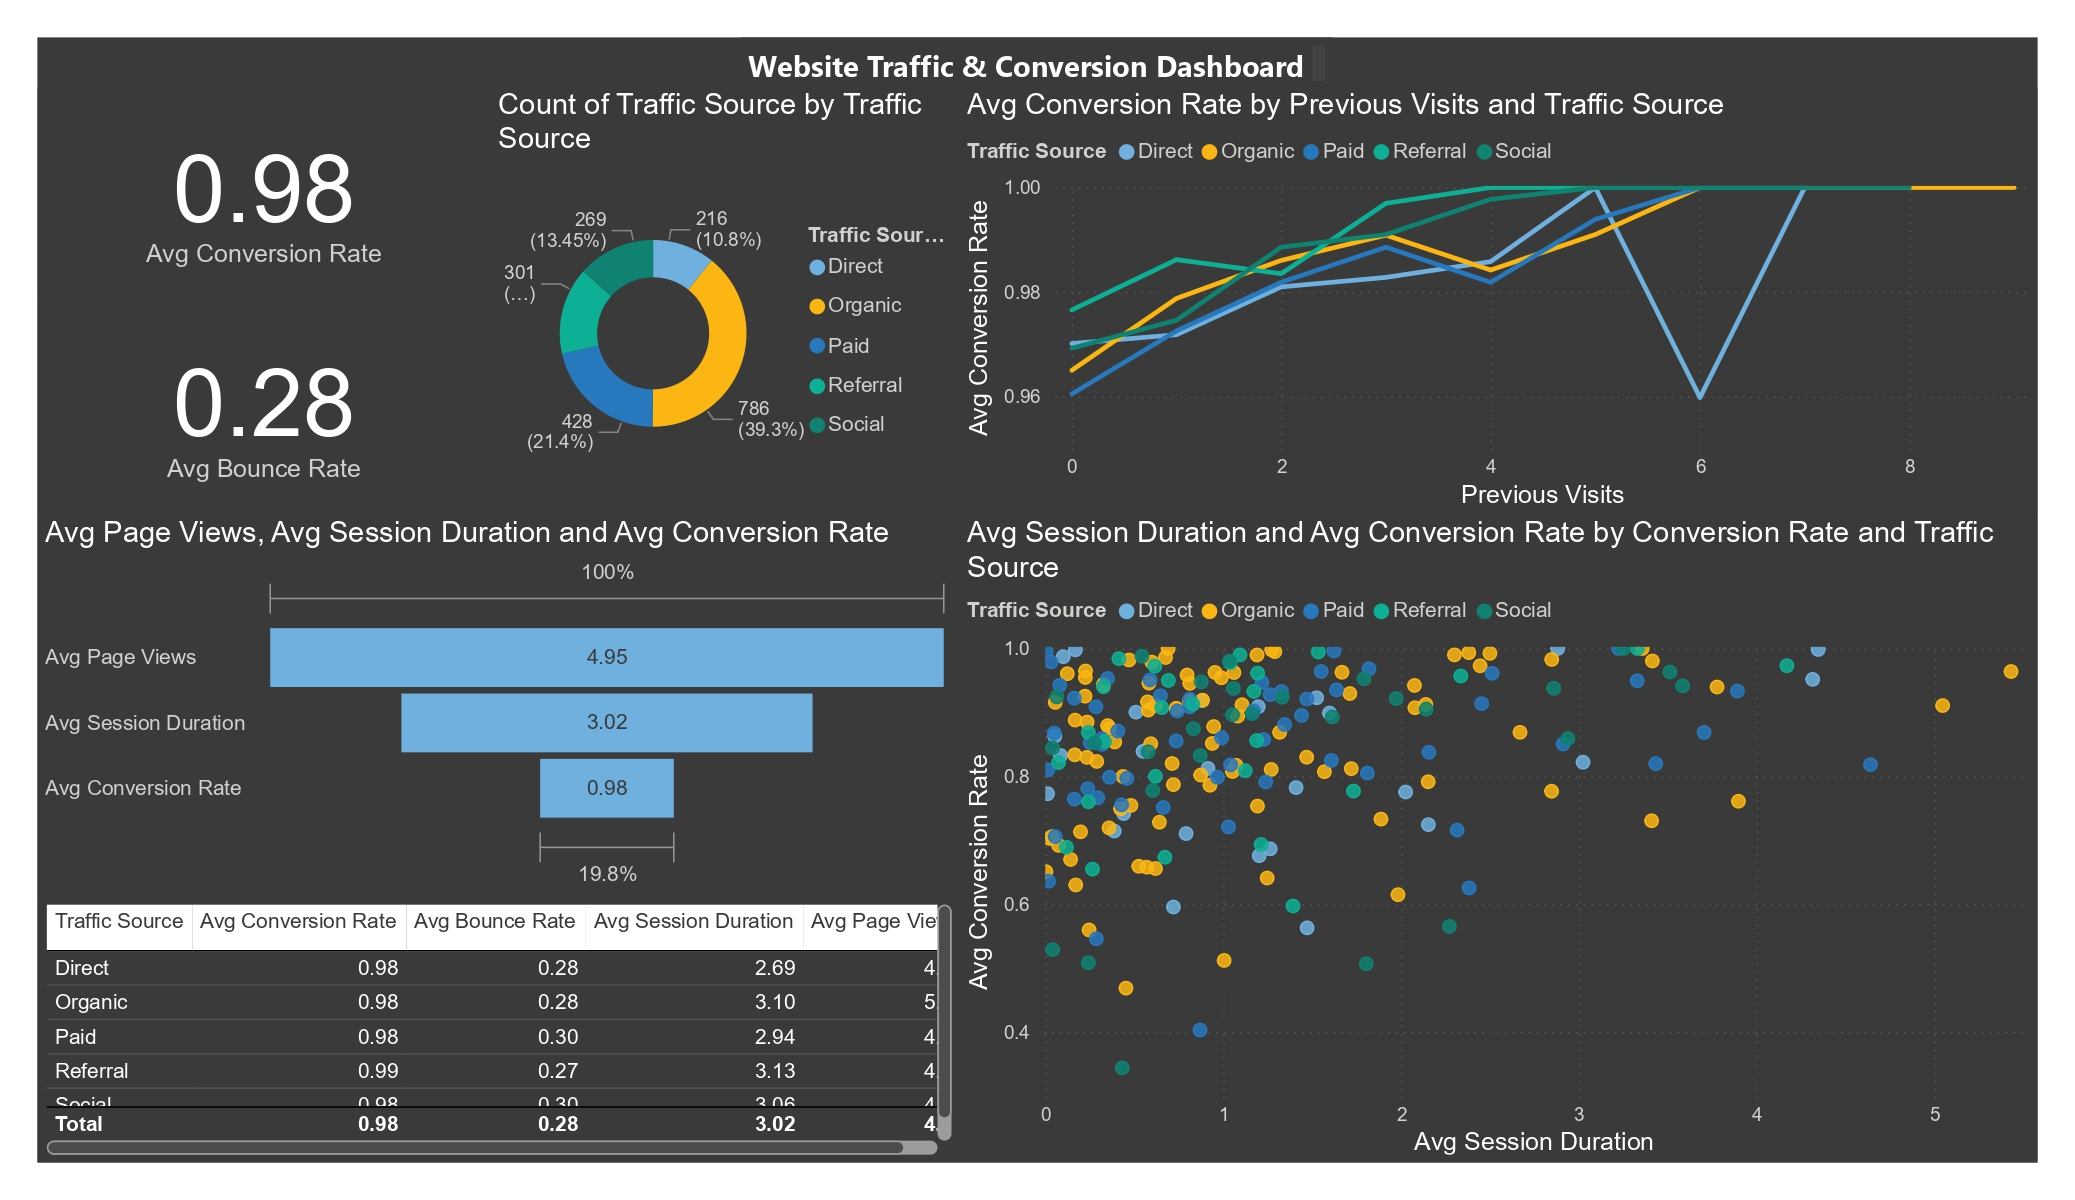

This screenshot's page, from the dashboard's own definition file:
{"tool":"powerbi","page":{"name":"Page 1","canvas":[1280,720],"ordinal":0},"visuals":[{"type":"card","fields":{"Values":["website_wata.Avg Conversion Rate"]},"box":[0,32,290,138],"z":0},{"type":"scatterChart","fields":{"X":["website_wata.Avg Session Duration"],"Y":["website_wata.Avg Conversion Rate"],"Series":["website_wata.Traffic Source"],"Category":["website_wata.Conversion Rate"]},"box":[590,306,690,414],"z":1000},{"type":"funnel","fields":{"Y":["website_wata.Avg Page Views","website_wata.Avg Session Duration","website_wata.Avg Conversion Rate"]},"box":[0,306,590,244],"z":2000},{"type":"tableEx","fields":{"Values":["website_wata.Traffic Source","website_wata.Avg Conversion Rate","website_wata.Avg Bounce Rate","website_wata.Avg Session Duration","website_wata.Avg Page Views"]},"box":[0,550,590,170],"z":3000},{"type":"card","fields":{"Values":["website_wata.Avg Bounce Rate"]},"box":[0,170,290,136],"z":4000},{"type":"lineChart","fields":{"Category":["website_wata.Previous Visits"],"Y":["website_wata.Avg Conversion Rate"],"Series":["website_wata.Traffic Source"]},"box":[590,32,690,274],"z":5000},{"type":"donutChart","fields":{"Series":["website_wata.Traffic Source"],"Y":["CountNonNull(website_wata.Traffic Source)"]},"box":[290,32,300,274],"z":6000},{"type":"textbox","box":[450,0,378.8,32.5],"z":7000}]}

Visuals, with their boxes in screenshot pixels (x1, y1, x2, y2):
card - website_wata.Avg Conversion Rate: pyautogui.locateOnScreen(38, 88, 491, 303)
scatterChart - website_wata.Avg Session Duration x website_wata.Avg Conversion Rate: pyautogui.locateOnScreen(959, 516, 2038, 1162)
funnel - website_wata.Avg Page Views x website_wata.Avg Session Duration: pyautogui.locateOnScreen(38, 516, 959, 897)
tableEx - website_wata.Traffic Source x website_wata.Avg Conversion Rate: pyautogui.locateOnScreen(38, 897, 959, 1162)
card - website_wata.Avg Bounce Rate: pyautogui.locateOnScreen(38, 303, 491, 516)
lineChart - website_wata.Previous Visits x website_wata.Avg Conversion Rate: pyautogui.locateOnScreen(959, 88, 2038, 516)
donutChart - website_wata.Traffic Source x CountNonNull(website_wata.Traffic Source): pyautogui.locateOnScreen(491, 88, 959, 516)
textbox: pyautogui.locateOnScreen(741, 38, 1332, 88)
